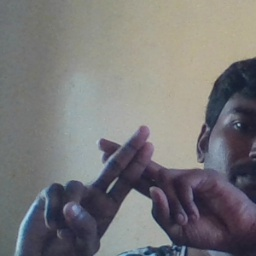F: (74, 117, 194, 241)
